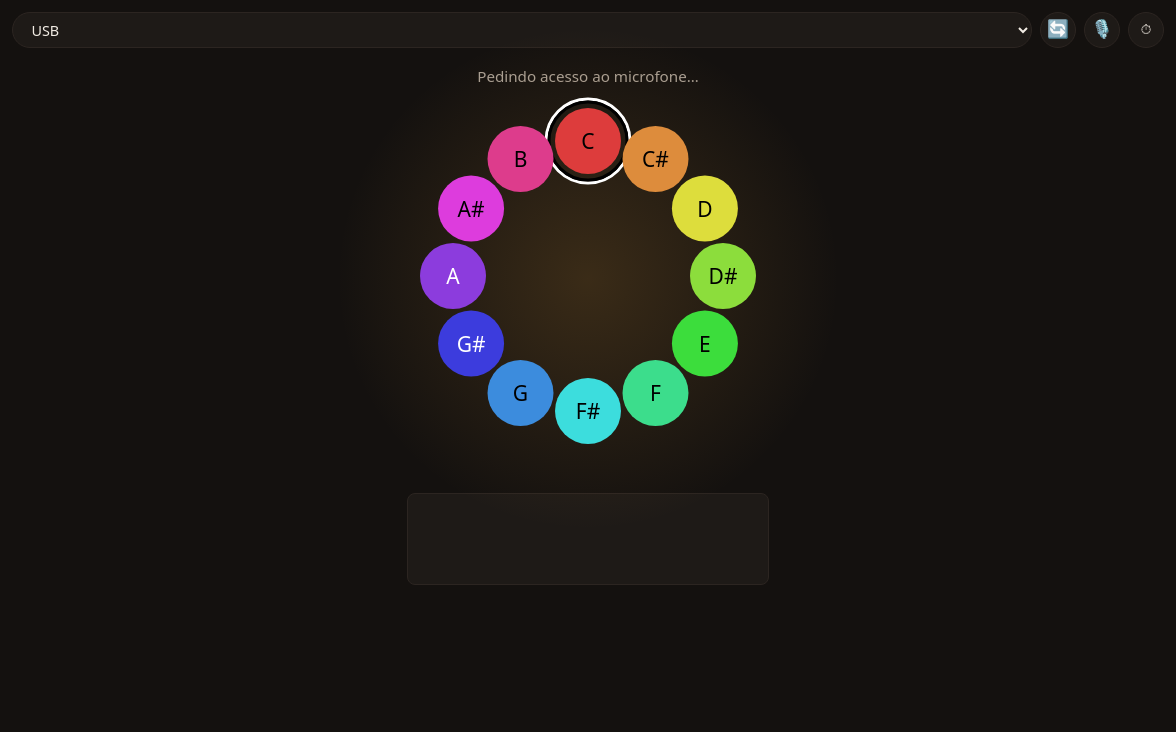
InputLane › latency › disables calibration without a hint while the input is opening
Click the button named "Atraso da entrada".
click(1146, 30)  # box left=1128, top=12, right=1164, bottom=48
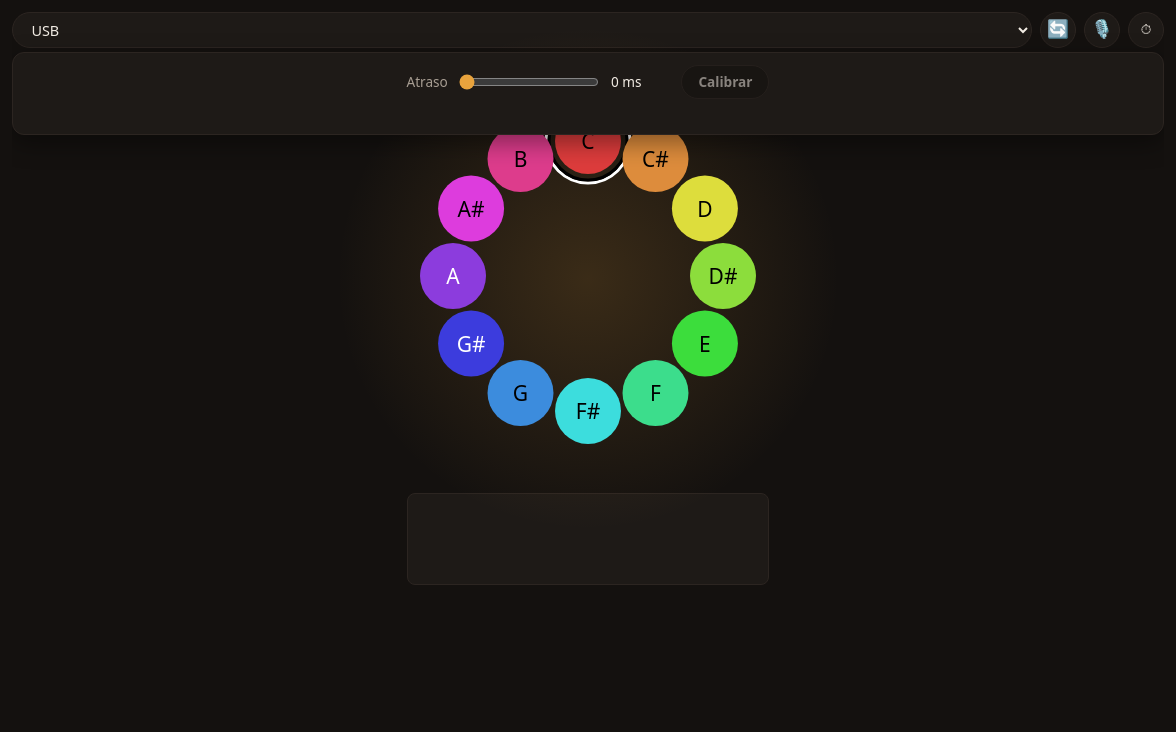
expect the button "Calibrar" is disabled: met, box left=681, top=65, right=770, bottom=99
